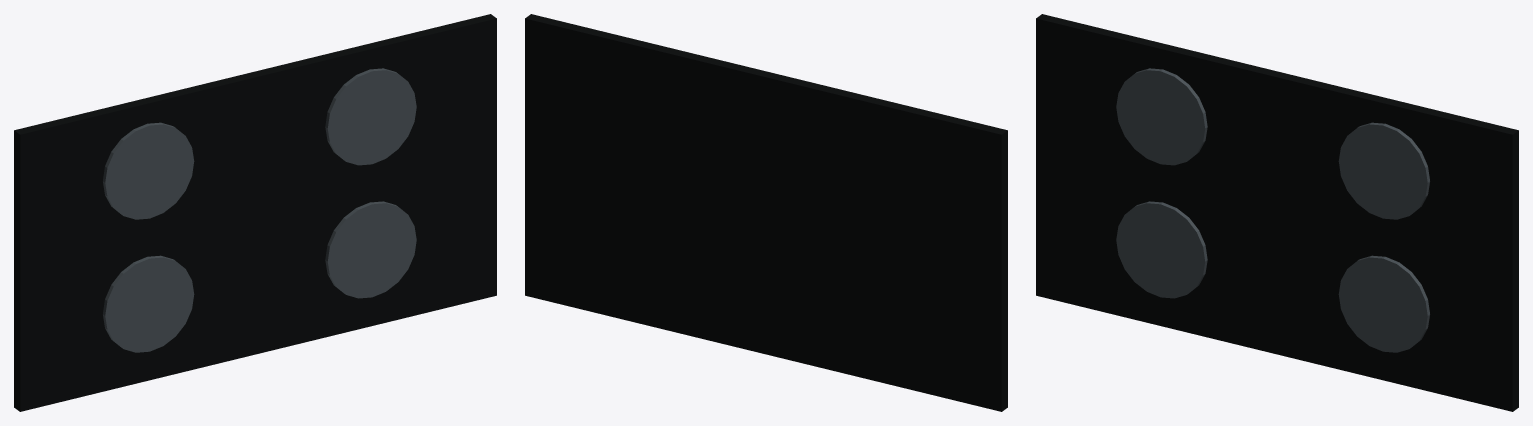
The model's file is kitchen_hob.obj.
3 views of the same model, side by side, from view 1: azimuth 30°, elevation 25°; view 2: azimuth 150°, elevation 25°; view 3: azimuth 330°, elevation 25° (orthographic).
Parts seen in each view (by area): view 1: kitchen_hob_frame, kitchen_hob_metal; view 2: kitchen_hob_frame; view 3: kitchen_hob_frame, kitchen_hob_metal.
Boxes of the visible parts, box(x1,y1,x2,y2) form: kitchen_hob_frame: box(14, 14, 496, 411); kitchen_hob_metal: box(103, 68, 416, 352); kitchen_hob_frame: box(525, 14, 1007, 411); kitchen_hob_frame: box(1036, 14, 1518, 411); kitchen_hob_metal: box(1116, 68, 1429, 352).
Size of the model in its own units: 45 by 25 by 1.4.
Materials: 2 (2 with a texture image).
